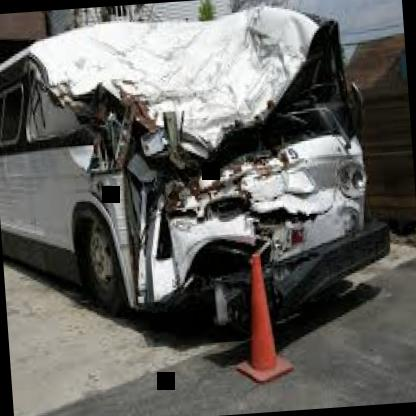accident: (10, 0, 416, 413)
